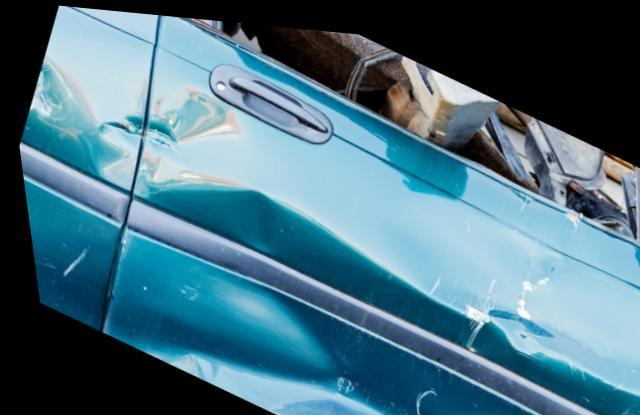dent: (99, 185, 640, 415), (26, 56, 140, 185), (144, 85, 236, 147)
scratch: (451, 250, 560, 341)
